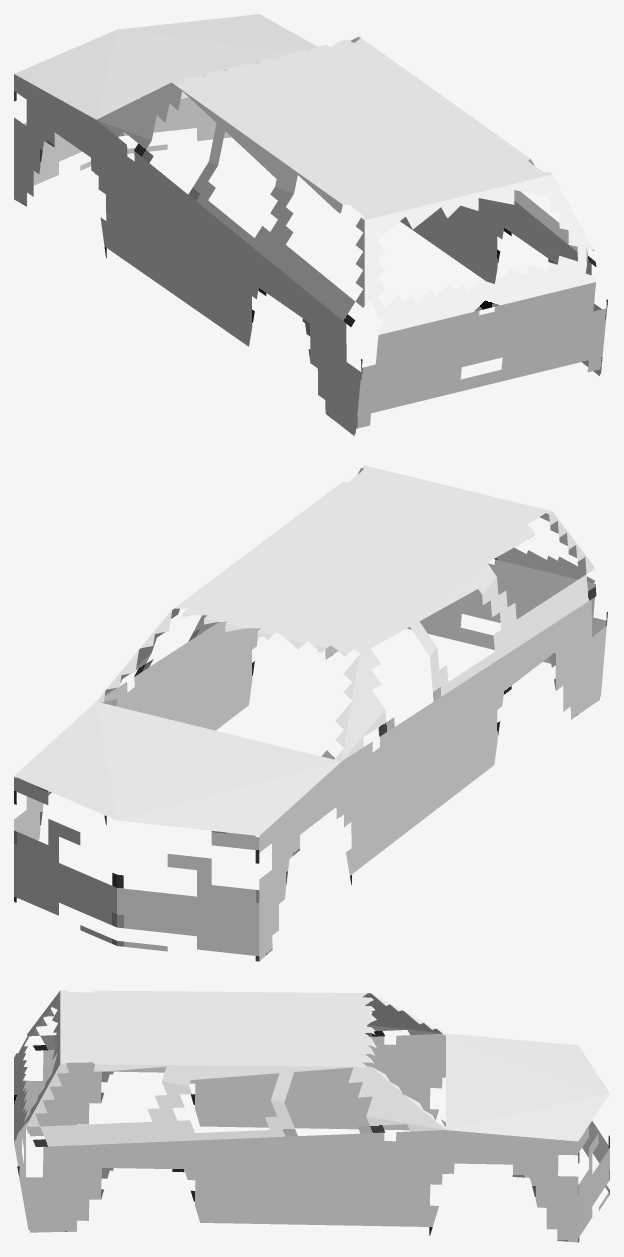
Rendered from chevy_tahoe_color.obj.
3 views of the same model, one above another, from view 1: azimuth 30°, elevation 25°; view 2: azimuth 150°, elevation 25°; view 3: azimuth 270°, elevation 25° (orthographic). The views are drawn at different scales.
Parts seen in each view (by area): view 1: chevy_tahoe__Plane.001; view 2: chevy_tahoe__Plane.001; view 3: chevy_tahoe__Plane.001.
Part boxes in pixels (left/top/right/bottom): chevy_tahoe__Plane.001: left=14, top=14, right=607, bottom=435; chevy_tahoe__Plane.001: left=14, top=465, right=607, bottom=961; chevy_tahoe__Plane.001: left=14, top=990, right=609, bottom=1242.
Size of the model in its own units: 2 by 1.62 by 5.23.
